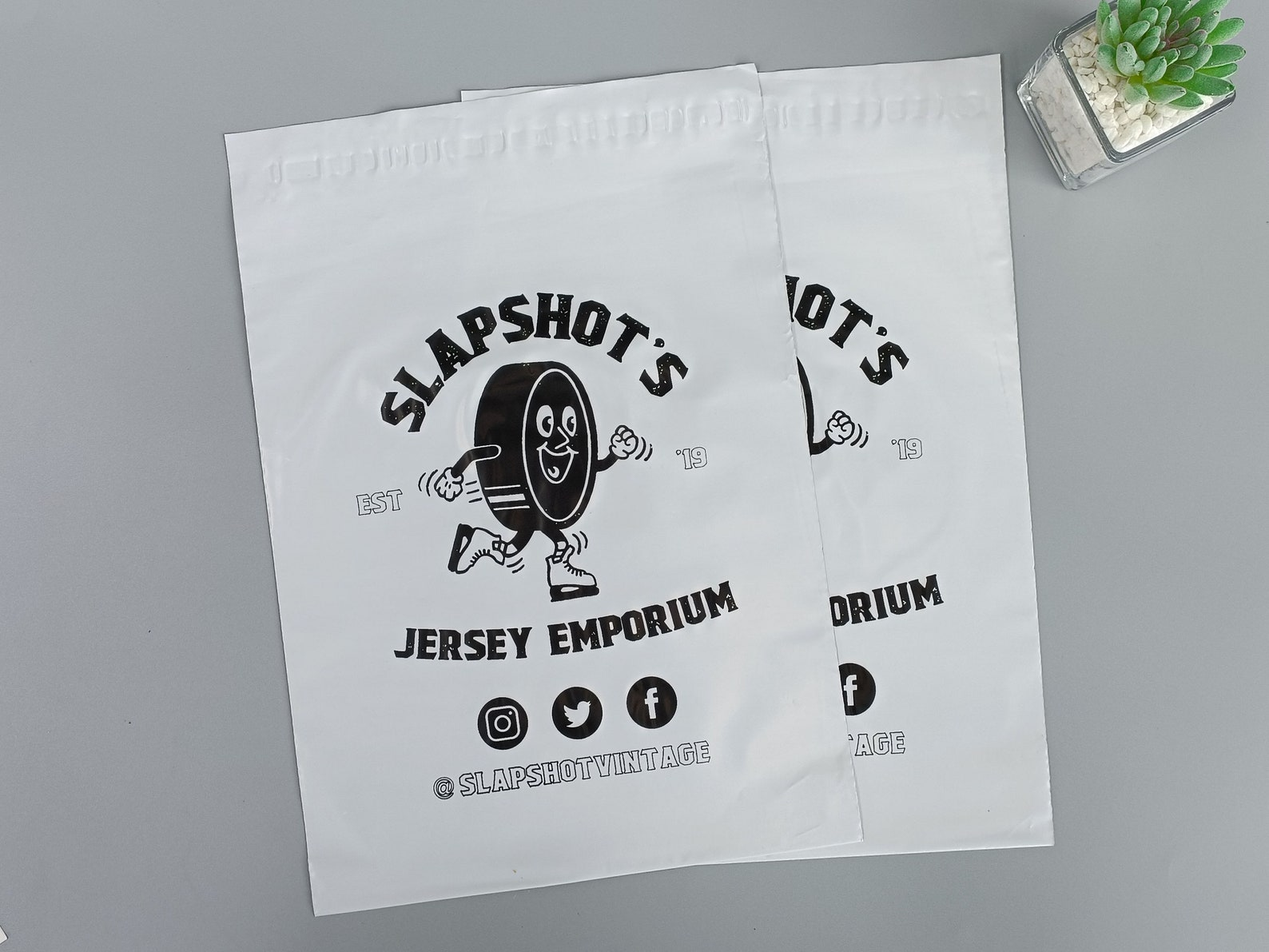Parcel: (228, 68, 861, 913), (760, 56, 1053, 857)
